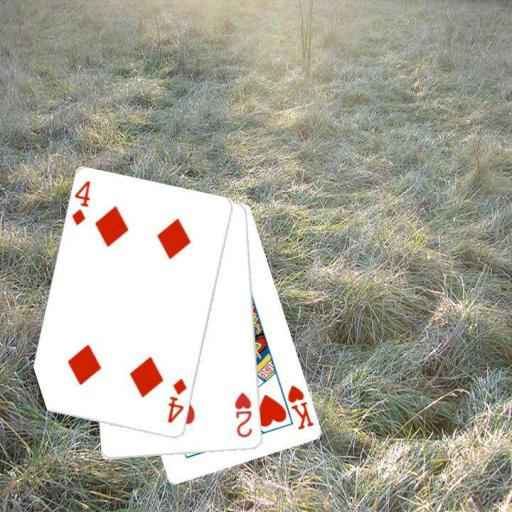2H: (232, 389, 255, 439)
4D: (164, 376, 189, 426), (69, 178, 93, 228)
KH: (284, 382, 316, 432)
